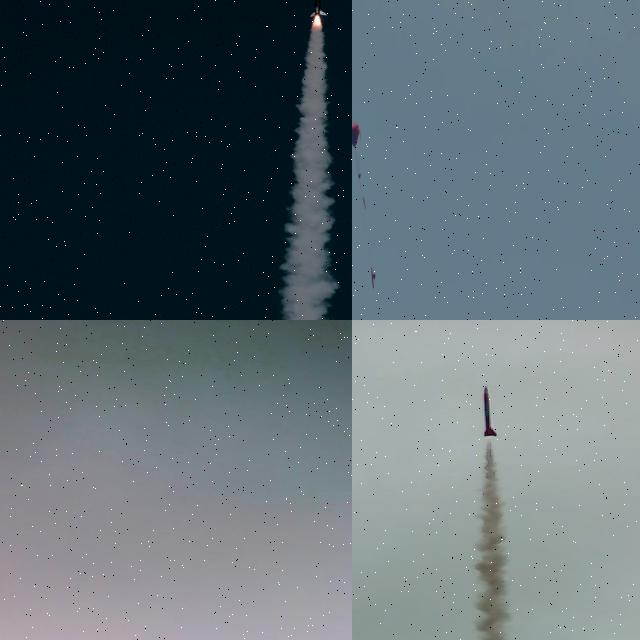Rocket: (482, 385, 498, 437), (309, 0, 327, 17)
